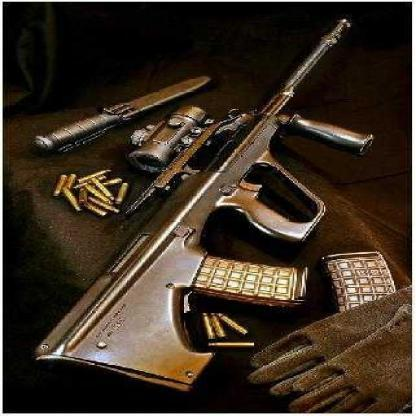rifle: (18, 4, 384, 389)
